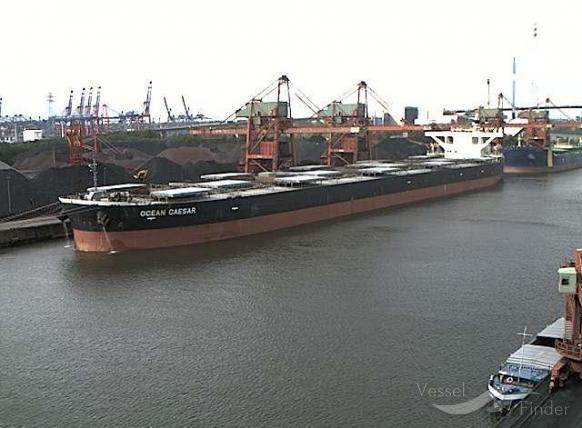OCR: (134, 204, 200, 222)
